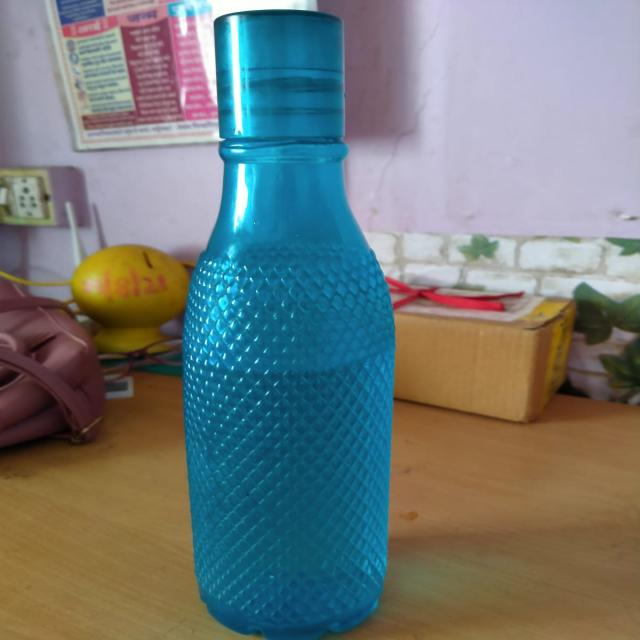Bottle: (174, 6, 402, 636)
